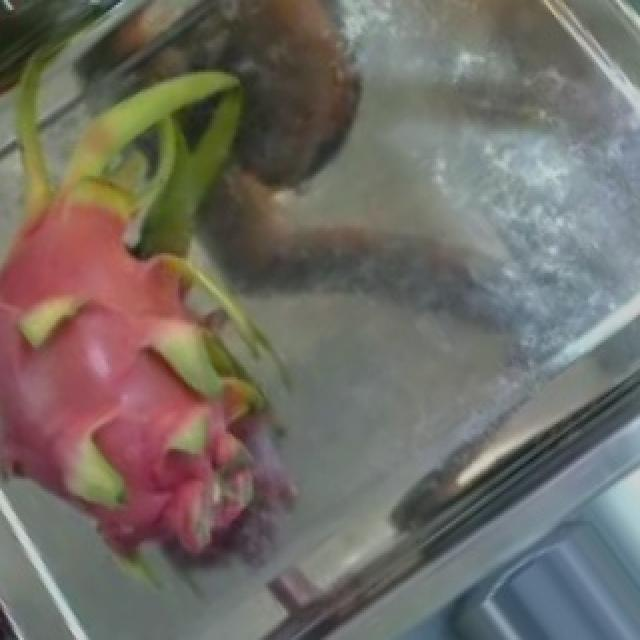fruit: (0, 154, 384, 610)
